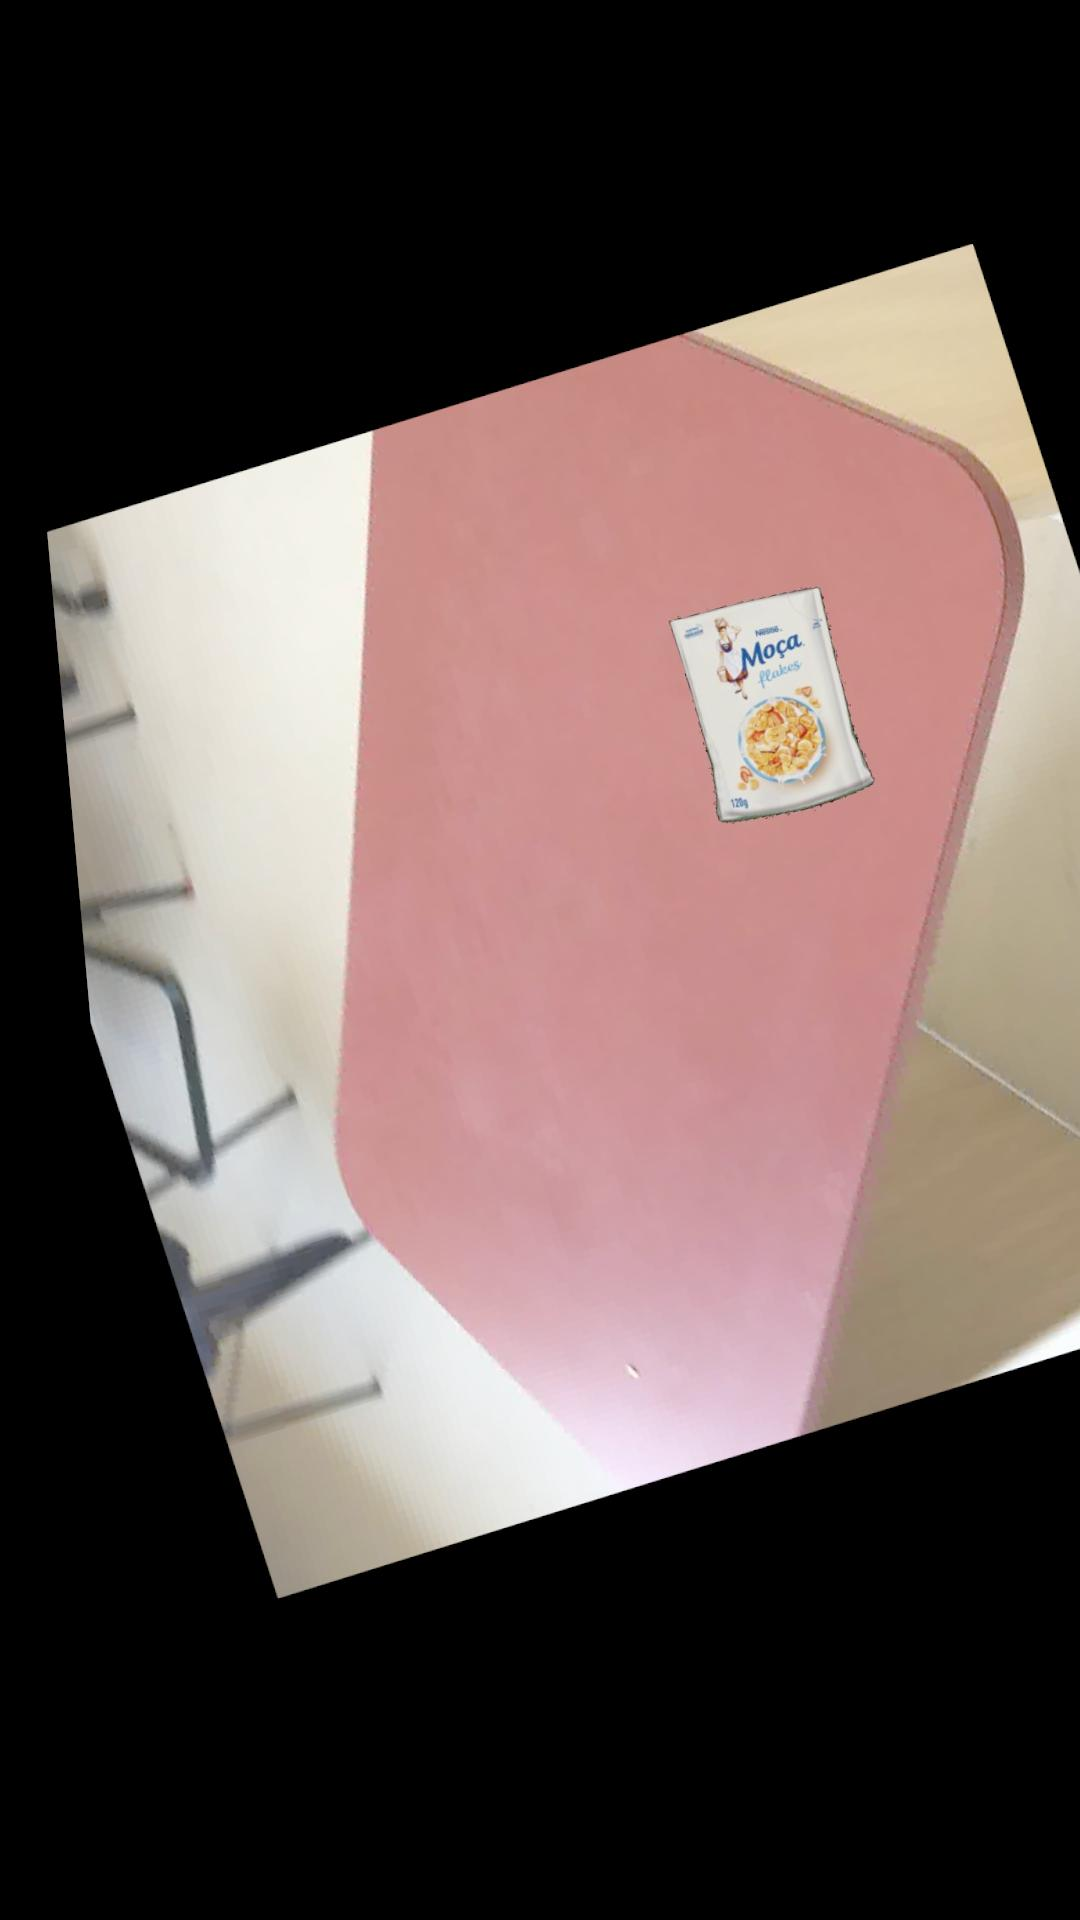corn flakes: (654, 596, 856, 831)
